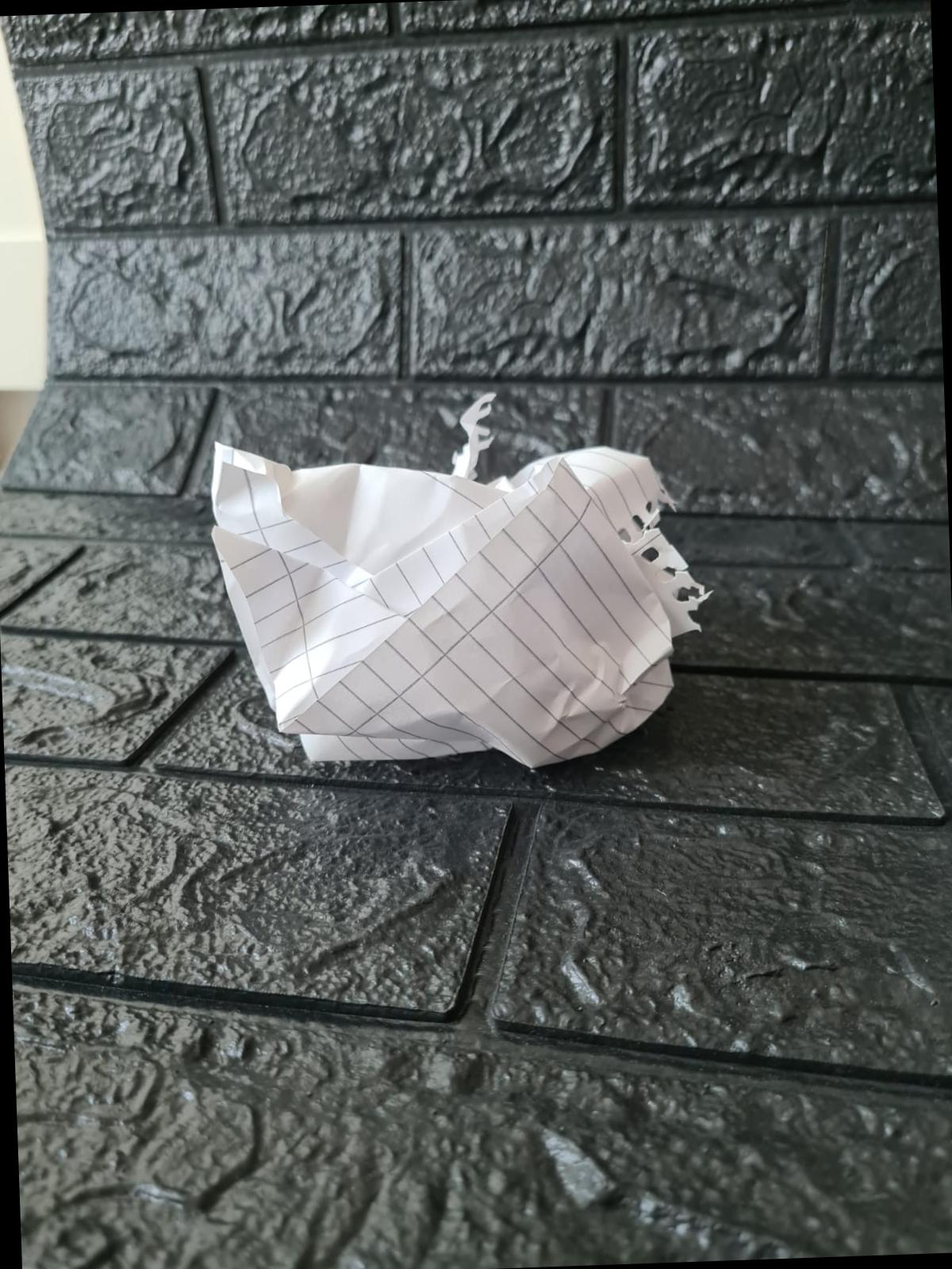Kertas: (231, 449, 702, 766)
